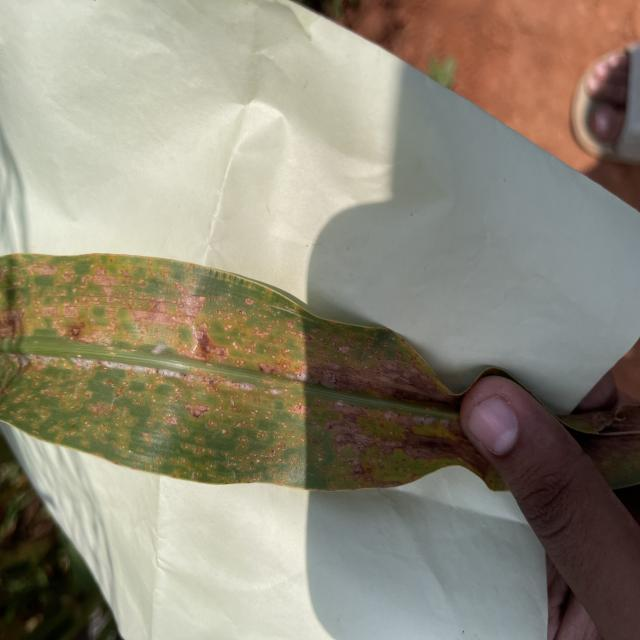millet_rust: (0, 253, 505, 490)
